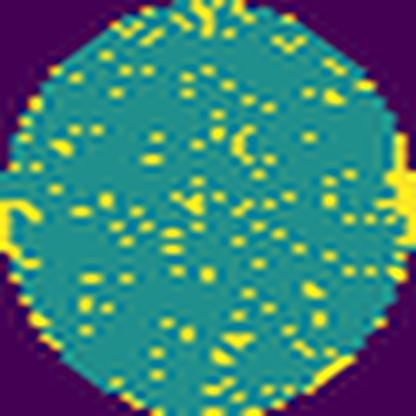Edge-Loc: (375, 129, 415, 255)
